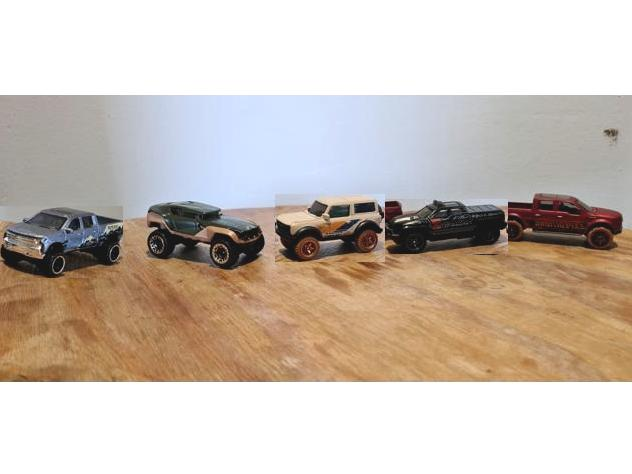toy-car: (0, 206, 123, 278), (146, 200, 265, 269), (487, 193, 623, 249), (274, 194, 384, 262), (382, 199, 508, 254)
